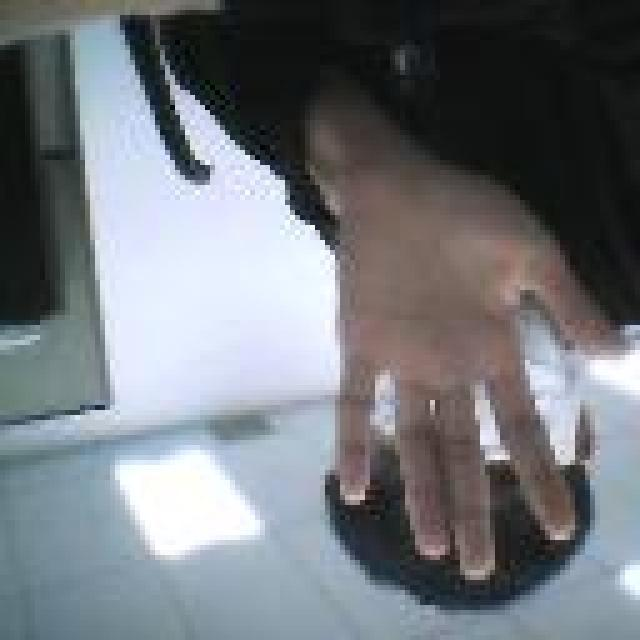Hand: (334, 90, 618, 582)
